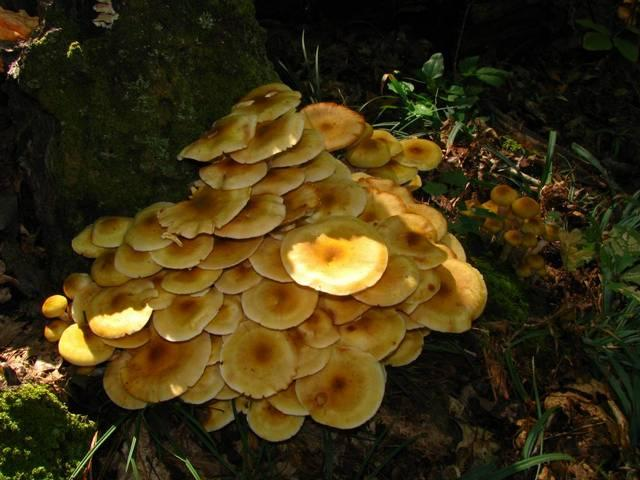Edible Mushroom: (41, 81, 488, 442)
